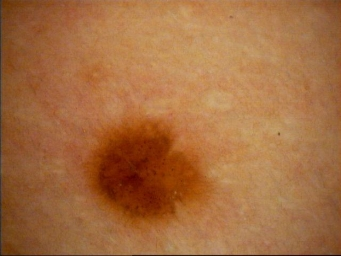melanoma: (97, 133, 196, 222)
